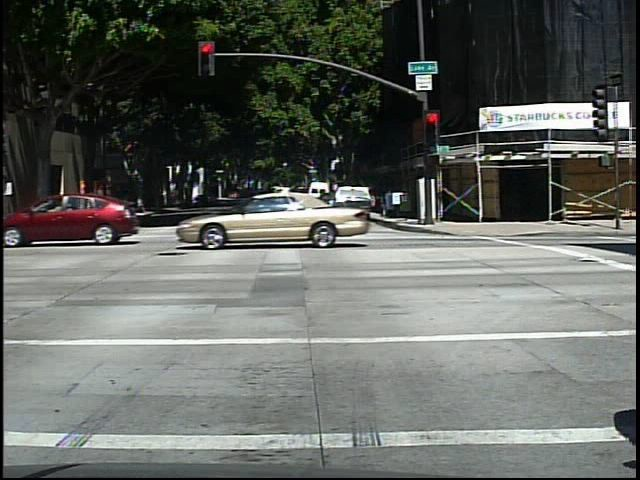person: (83, 184, 113, 237)
